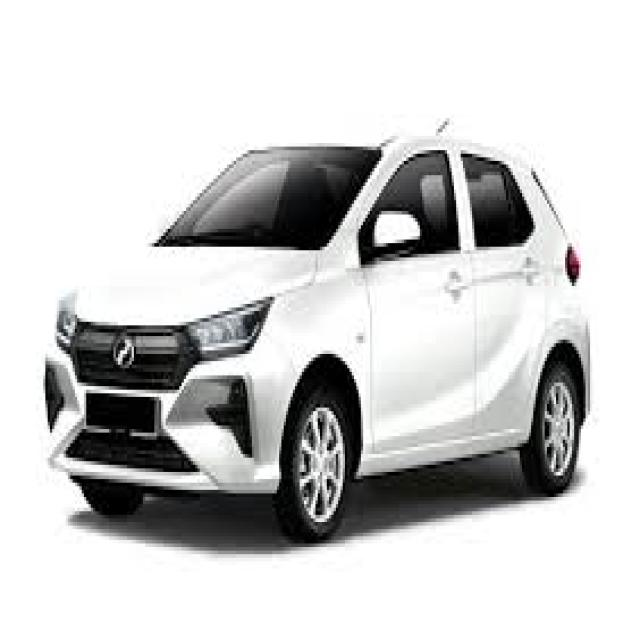PeroduaAxia: (41, 114, 592, 544)
